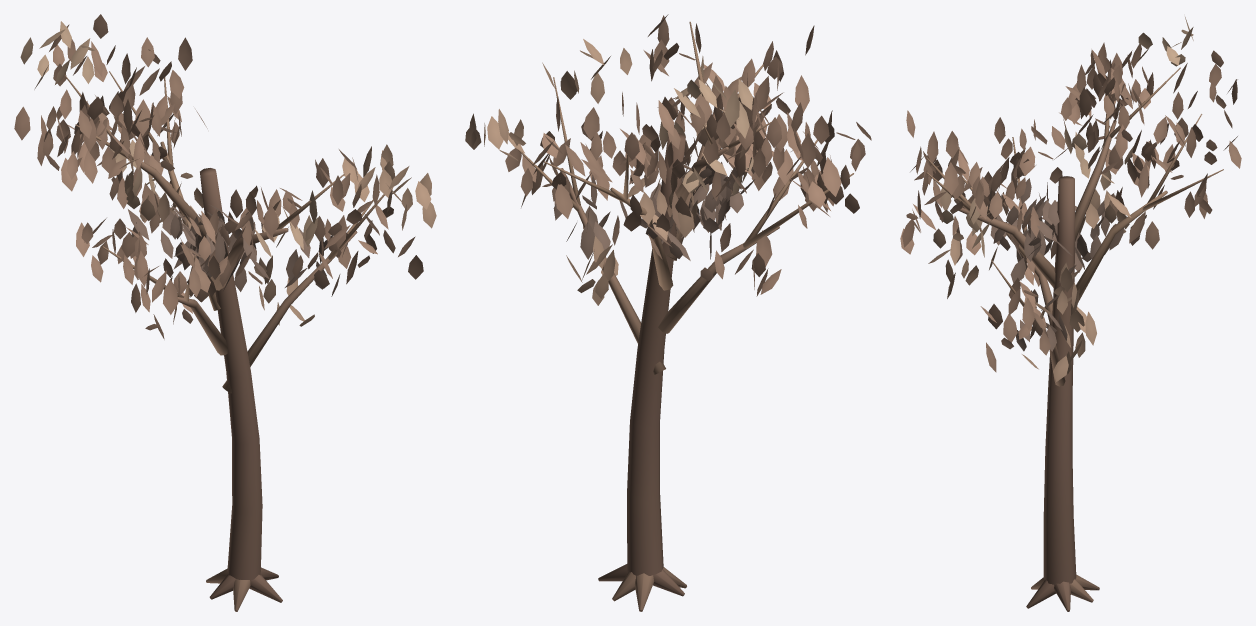
The model's file is tree_3d_06_copper.glb.
3 views of the same model, side by side, from view 1: azimuth 30°, elevation 25°; view 2: azimuth 150°, elevation 25°; view 3: azimuth 270°, elevation 25° (orthographic). The views are drawn at different scales.
Visible parts, largest first — view 1: tree_3d_06_copper_foliage, tree_3d_06_copper_wood; view 2: tree_3d_06_copper_foliage, tree_3d_06_copper_wood; view 3: tree_3d_06_copper_foliage, tree_3d_06_copper_wood.
Boxes of the visible parts, x1=… form: tree_3d_06_copper_foliage: x1=14, y1=14, x2=436, y2=339; tree_3d_06_copper_wood: x1=64, y1=71, x2=384, y2=611; tree_3d_06_copper_foliage: x1=465, y1=14, x2=871, y2=305; tree_3d_06_copper_wood: x1=518, y1=21, x2=853, y2=611; tree_3d_06_copper_foliage: x1=900, y1=17, x2=1241, y2=381; tree_3d_06_copper_wood: x1=926, y1=67, x2=1223, y2=611.
Bounding box in the file's own units: 5.52 × 8.46 × 5.02.
